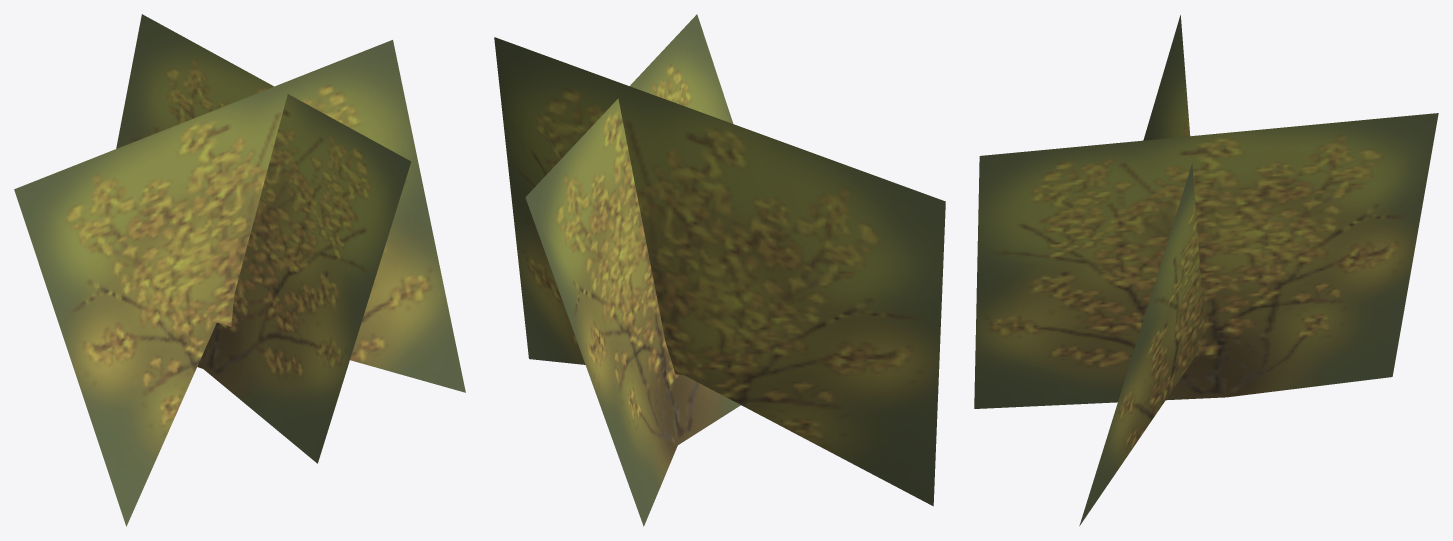
Rendered from JiaYeSiWai1_YuanJingYe_1.FBX.
3 renders of one model, left to right at view 1: azimuth 30°, elevation 25°; view 2: azimuth 150°, elevation 25°; view 3: azimuth 270°, elevation 25°, orthographic. The views are drawn at different scales.
Visible parts, largest first — view 1: JiaYeSiWai1_YuanJingYe_1; view 2: JiaYeSiWai1_YuanJingYe_1; view 3: JiaYeSiWai1_YuanJingYe_1.
Boxes of the visible parts, x1,y1,x2,y2 form: JiaYeSiWai1_YuanJingYe_1: (14,14,465,526); JiaYeSiWai1_YuanJingYe_1: (494,14,945,526); JiaYeSiWai1_YuanJingYe_1: (974,15,1438,525).
Size of the model in its own units: 201 by 174 by 181.
